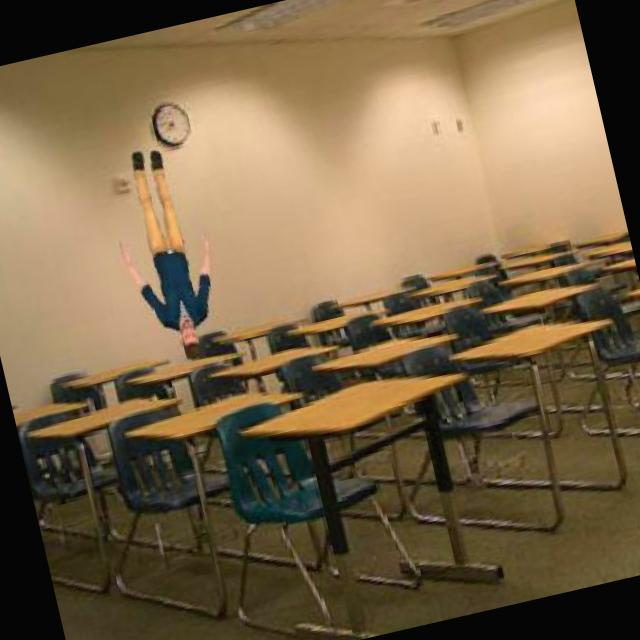Person: (95, 132, 238, 368)
